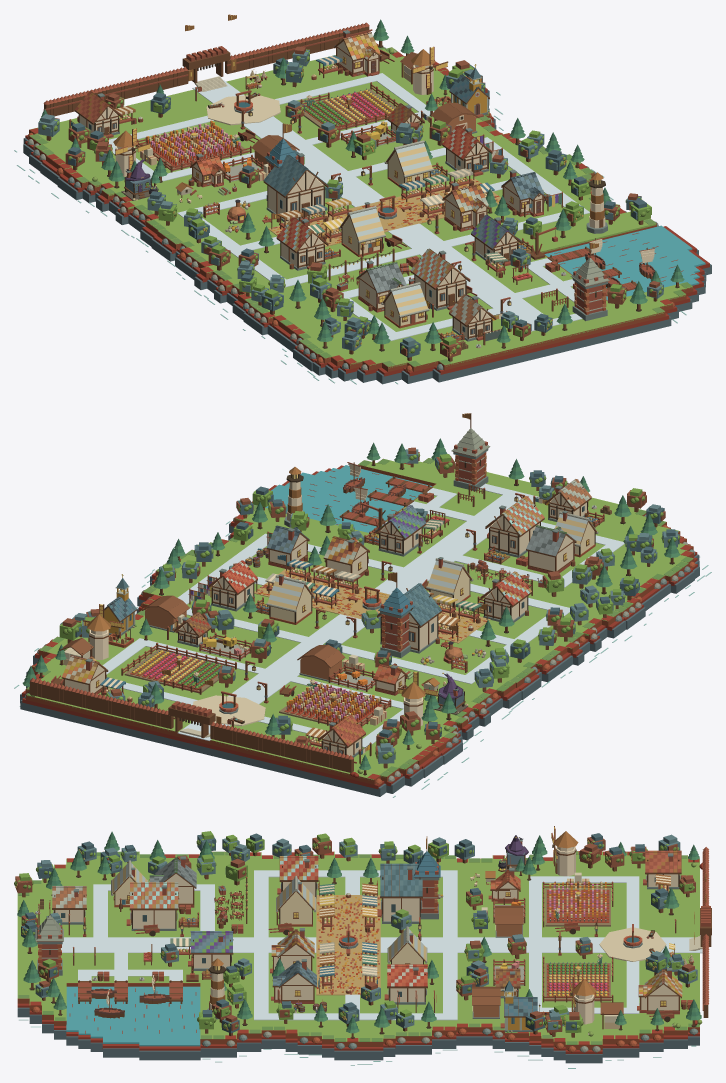
The model's file is 01_Farmland.fbx.
3 renders of one model, top to bottom at view 1: azimuth 30°, elevation 25°; view 2: azimuth 150°, elevation 25°; view 3: azimuth 270°, elevation 25°, orthographic.
Visible parts, largest first — view 1: GroundAndDetails_0_21, GroundAndDetails_0_17, GroundAndDetails_0_7, GroundAndDetails_0_6, GroundAndDetails_0_12, gate_0095, GroundAndDetails_0_5, GroundAndDetails_0_19, GroundAndDetails_0_18, GroundAndDetails_0_4, GroundAndDetails_0_20, GroundAndDetails_0_16 (+29 smaller); view 2: GroundAndDetails_0_3, GroundAndDetails_0_6, GroundAndDetails_0_7, gate_0095, GroundAndDetails_0_17, GroundAndDetails_0_12, GroundAndDetails_0_5, GroundAndDetails_0_10, GroundAndDetails_0_18, GroundAndDetails_0_20, GroundAndDetails_0_19, GroundAndDetails_0_16 (+33 smaller); view 3: GroundAndDetails_0_12, GroundAndDetails_0_6, GroundAndDetails_0_7, GroundAndDetails_0_17, GroundAndDetails_0_5, GroundAndDetails_0_15, GroundAndDetails_0_19, GroundAndDetails_0_10, GroundAndDetails_0_18, GroundAndDetails_0_20, GroundAndDetails_0_9, GroundAndDetails_0_16 (+37 smaller).
Boxes of the visible parts, x1=… form: GroundAndDetails_0_21: x1=376, y1=290, x2=692, y2=384; GroundAndDetails_0_17: x1=261, y1=223, x2=684, y2=347; GroundAndDetails_0_7: x1=77, y1=80, x2=502, y2=213; GroundAndDetails_0_6: x1=51, y1=77, x2=500, y2=200; GroundAndDetails_0_12: x1=175, y1=142, x2=604, y2=280; gate_0095: x1=43, y1=22, x2=372, y2=116; GroundAndDetails_0_5: x1=28, y1=62, x2=449, y2=185; GroundAndDetails_0_19: x1=297, y1=254, x2=711, y2=376; GroundAndDetails_0_18: x1=281, y1=239, x2=698, y2=364; GroundAndDetails_0_4: x1=17, y1=49, x2=405, y2=173; GroundAndDetails_0_20: x1=313, y1=272, x2=705, y2=384; GroundAndDetails_0_16: x1=243, y1=211, x2=658, y2=335; GroundAndDetails_0_3: x1=19, y1=687, x2=398, y2=797; GroundAndDetails_0_6: x1=33, y1=636, x2=468, y2=764; GroundAndDetails_0_7: x1=73, y1=614, x2=483, y2=749; gate_0095: x1=29, y1=678, x2=356, y2=772; GroundAndDetails_0_17: x1=252, y1=490, x2=658, y2=615; GroundAndDetails_0_12: x1=144, y1=539, x2=572, y2=682; GroundAndDetails_0_5: x1=26, y1=653, x2=447, y2=780; GroundAndDetails_0_10: x1=135, y1=587, x2=534, y2=709; GroundAndDetails_0_18: x1=268, y1=482, x2=694, y2=601; GroundAndDetails_0_20: x1=324, y1=460, x2=711, y2=576; GroundAndDetails_0_19: x1=286, y1=471, x2=704, y2=588; GroundAndDetails_0_16: x1=226, y1=505, x2=646, y2=629; GroundAndDetails_0_12: x1=268, y1=854, x2=442, y2=1065; GroundAndDetails_0_6: x1=542, y1=851, x2=626, y2=1068; GroundAndDetails_0_7: x1=380, y1=854, x2=702, y2=1060; GroundAndDetails_0_17: x1=61, y1=854, x2=316, y2=1060; GroundAndDetails_0_5: x1=599, y1=851, x2=666, y2=1060; GroundAndDetails_0_15: x1=237, y1=852, x2=273, y2=1056; GroundAndDetails_0_19: x1=90, y1=851, x2=127, y2=1057; GroundAndDetails_0_10: x1=419, y1=855, x2=457, y2=1054; GroundAndDetails_0_18: x1=78, y1=851, x2=200, y2=1060; GroundAndDetails_0_20: x1=54, y1=858, x2=91, y2=1048; GroundAndDetails_0_9: x1=456, y1=858, x2=492, y2=1045; GroundAndDetails_0_16: x1=200, y1=851, x2=236, y2=1062.
Size of the model in its own units: 82.05 by 16.97 by 115.
1 material, 1 textured.
